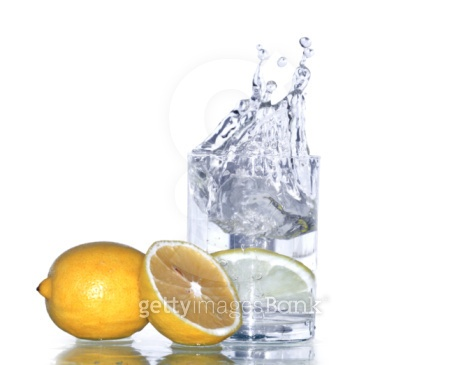glass of water: (186, 133, 320, 349)
